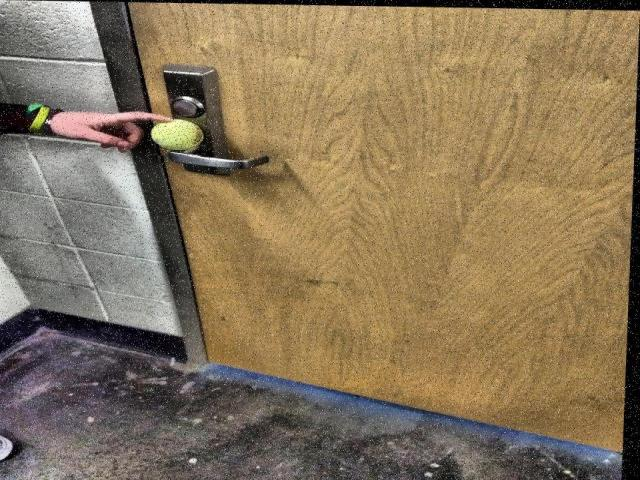tennis-ball: (151, 119, 203, 150)
